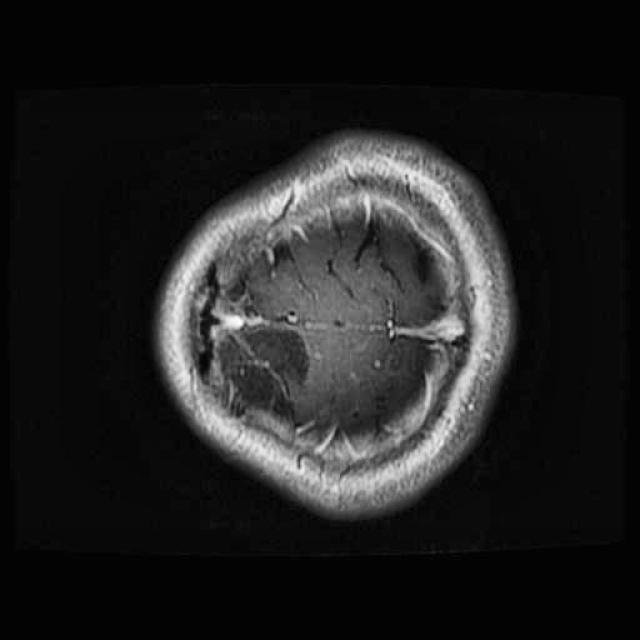Non-Tumor: (205, 308, 324, 440)
